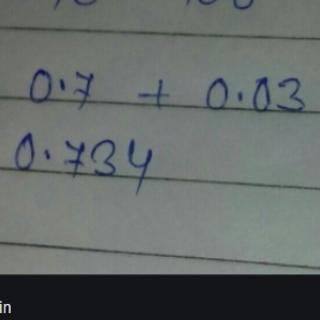.: (233, 87, 248, 105), (42, 146, 57, 160), (59, 77, 70, 92)
0: (28, 67, 56, 103), (207, 75, 232, 111)
3: (276, 76, 310, 115), (88, 135, 118, 176)
4: (122, 138, 160, 198)
7: (71, 67, 99, 109), (64, 139, 89, 179)
